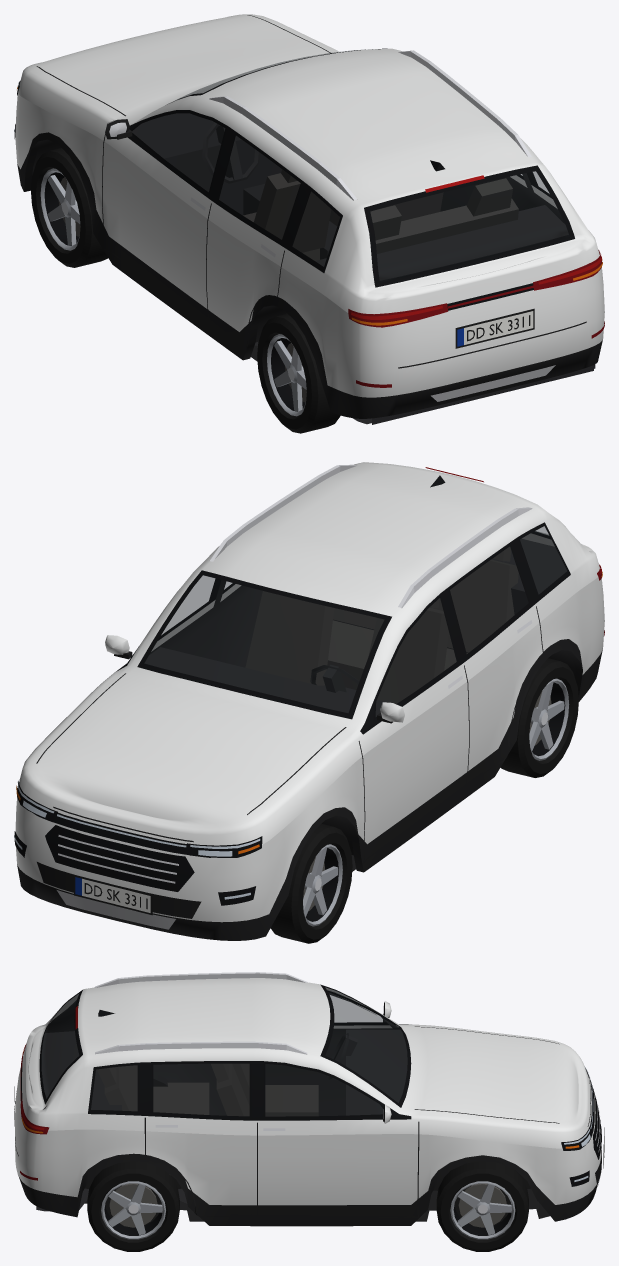
File: suv_kompakt.glb
3 renders of one model, top to bottom at view 1: azimuth 30°, elevation 25°; view 2: azimuth 150°, elevation 25°; view 3: azimuth 270°, elevation 25°, orthographic. The views are drawn at different scales.
Parts seen in each view (by area): view 1: Body, Interior, Glass, Tire_RL, Tire_FL, Lights, Rim_FL, Rim_RL; view 2: Body, Glass, Interior, Tire_FL, Tire_RL, Rim_FL, Rim_RL, Lights; view 3: Body, Glass, Interior, Tire_FR, Tire_RR, Rim_FR, Rim_RR, Lights.
Part boxes in pixels (box(x1,y1,x2,y2)): Body: box(14, 14, 604, 418); Interior: box(132, 113, 595, 424); Glass: box(132, 50, 569, 282); Tire_RL: box(257, 313, 340, 433); Tire_FL: box(31, 148, 107, 267); Lights: box(14, 81, 604, 387); Rim_FL: box(40, 168, 80, 250); Rim_RL: box(267, 334, 306, 416); Body: box(14, 462, 604, 940); Glass: box(145, 526, 566, 716); Interior: box(144, 538, 566, 716); Tire_FL: box(270, 824, 352, 943); Tire_RL: box(500, 658, 578, 777); Rim_FL: box(303, 844, 342, 926); Rim_RL: box(529, 678, 569, 760); Lights: box(14, 467, 604, 899); Body: box(14, 972, 604, 1226); Glass: box(41, 988, 407, 1116); Interior: box(36, 992, 407, 1211); Tire_FR: box(436, 1161, 528, 1251); Tire_RR: box(87, 1161, 179, 1251); Rim_FR: box(450, 1181, 515, 1239); Rim_RR: box(101, 1181, 165, 1239); Lights: box(20, 1006, 593, 1181).
Size of the model in its own units: 2.05 by 1.65 by 4.53.
